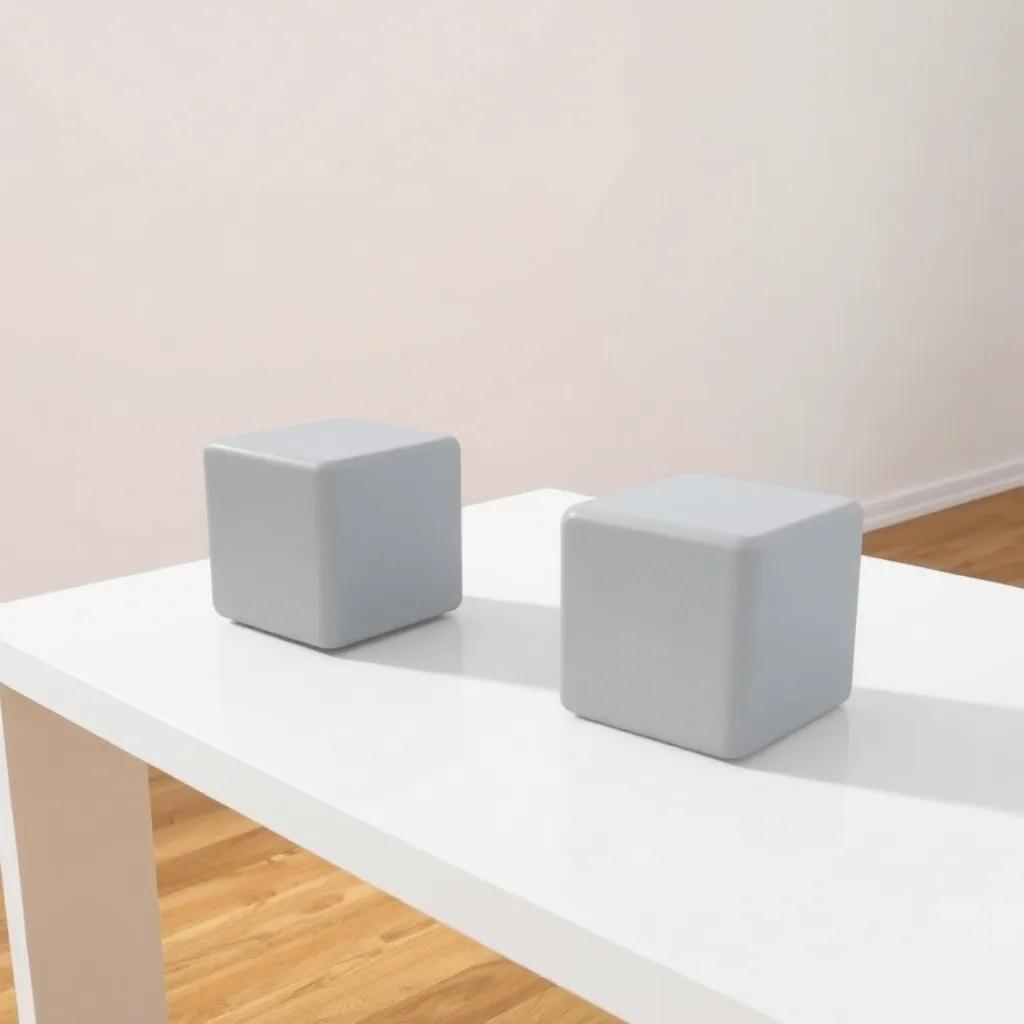cube: (558, 471, 864, 761), (202, 416, 462, 651)
